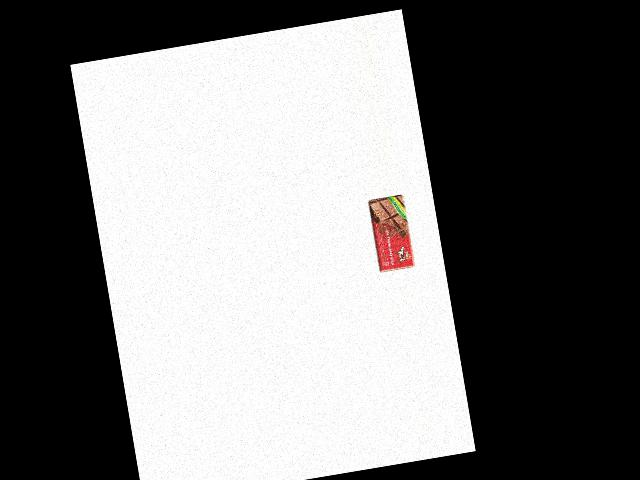chocolate: (366, 193, 416, 274)
